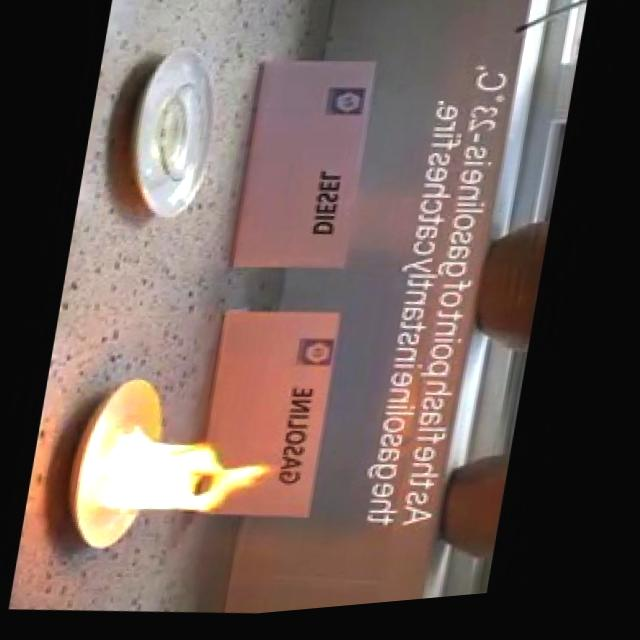helmet: (87, 405, 292, 557)
